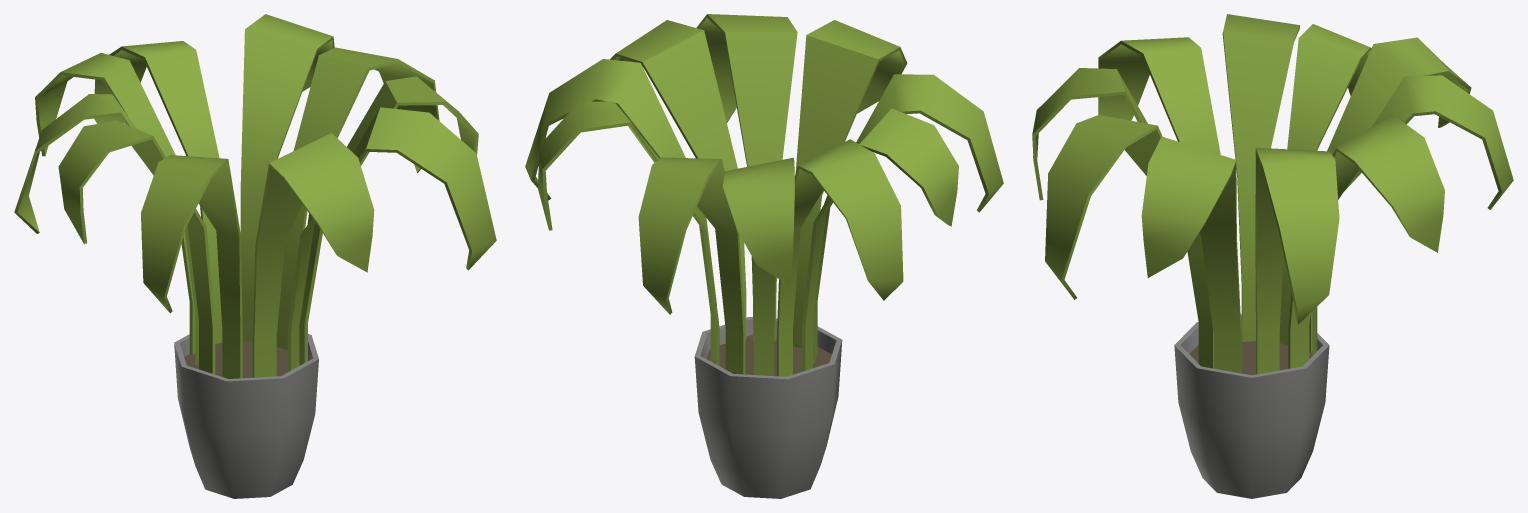
File: houseplant-6.glb
3 views of the same model, side by side, from view 1: azimuth 30°, elevation 25°; view 2: azimuth 150°, elevation 25°; view 3: azimuth 270°, elevation 25° (orthographic). The views are drawn at different scales.
Parts seen in each view (by area): view 1: Houseplant_6; view 2: Houseplant_6; view 3: Houseplant_6.
Part boxes in pixels (x1=…): Houseplant_6: x1=14, y1=14, x2=496, y2=498; Houseplant_6: x1=525, y1=14, x2=1003, y2=498; Houseplant_6: x1=1032, y1=14, x2=1513, y2=498.
Size of the model in its own units: 1.04 by 0.9586 by 1.05.
